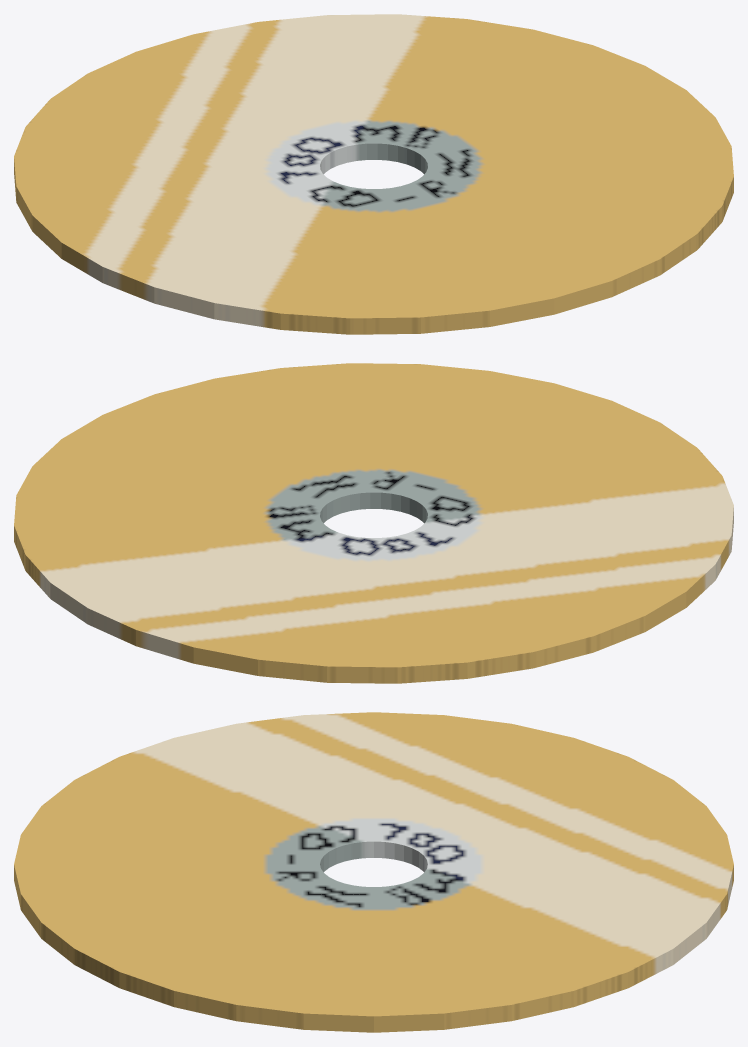
The model's file is Nut.obj.
The picture shows the model from 3 angles, top to bottom: view 1: azimuth 30°, elevation 25°; view 2: azimuth 150°, elevation 25°; view 3: azimuth 270°, elevation 25°; orthographic projection.
Parts seen in each view (by area): view 1: Circle_Circle.001; view 2: Circle_Circle.001; view 3: Circle_Circle.001.
Part boxes in pixels (left/top/right/bottom): Circle_Circle.001: left=14, top=14, right=733, bottom=334; Circle_Circle.001: left=14, top=363, right=733, bottom=683; Circle_Circle.001: left=14, top=712, right=733, bottom=1032.
Bounding box in the file's own units: 2 × 0.05 × 2.
